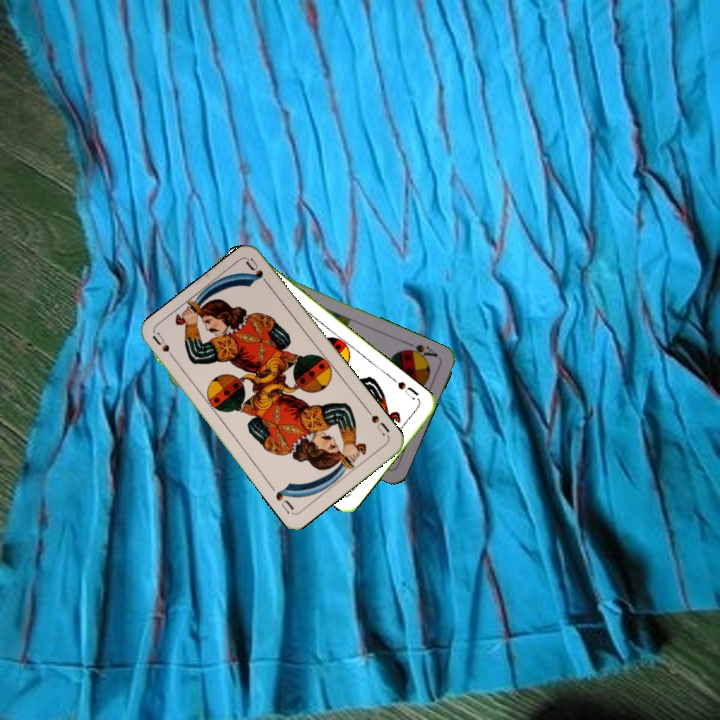SA: (400, 338, 441, 363)
SU: (149, 329, 180, 366), (362, 405, 392, 438), (388, 374, 421, 402)
